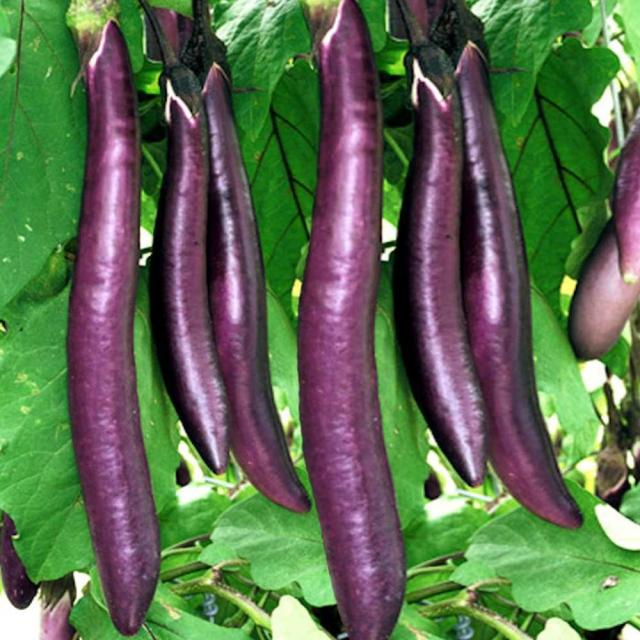Eggplant-r1Ob: (430, 0, 582, 529), (298, 0, 405, 640), (181, 0, 309, 512), (66, 0, 160, 634), (394, 25, 488, 486), (151, 40, 230, 473)
